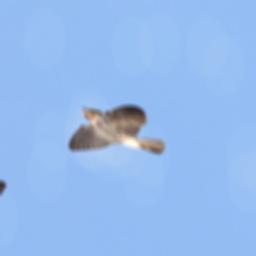Swallow: (42, 85, 181, 184)
